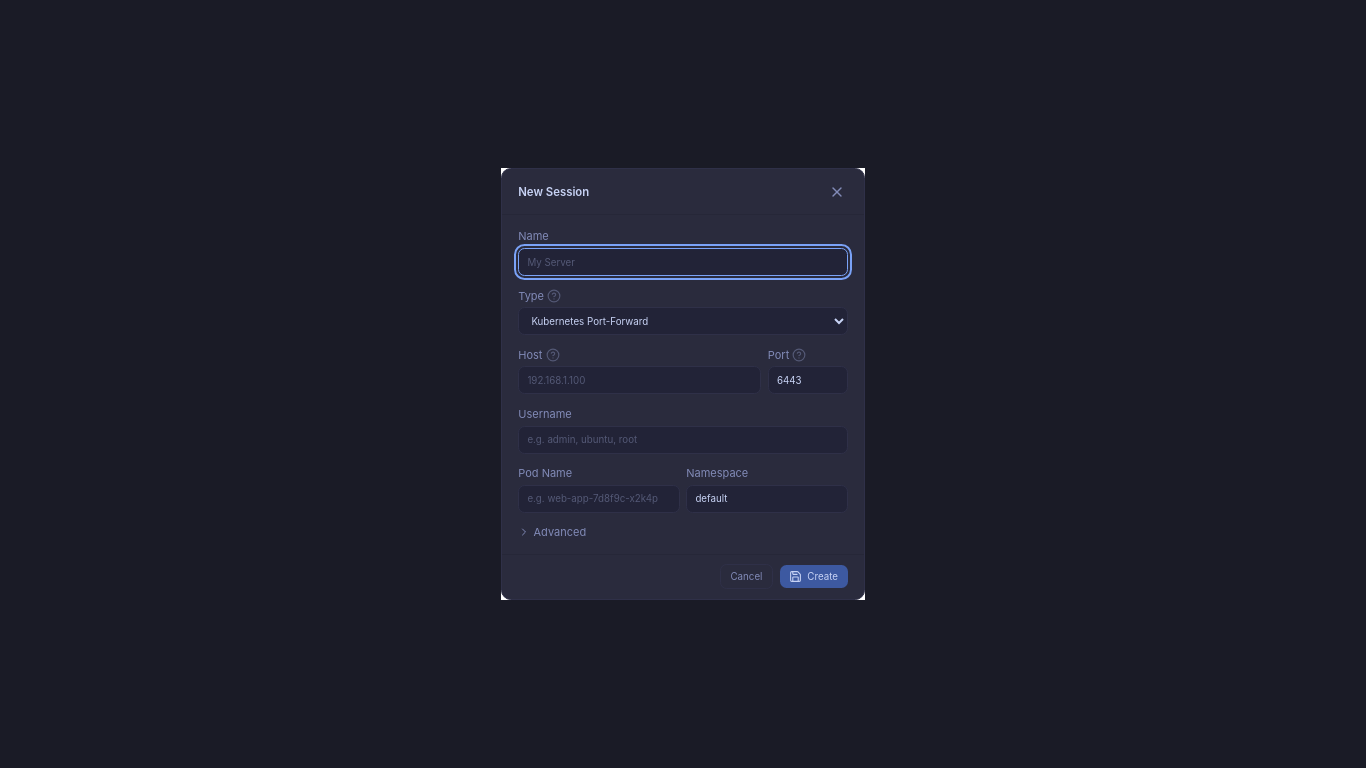
Test: SessionEditor › protocol-specific required fields block Save when empty › Kubernetes Port-Forward requires a Pod Name
The image size is (1366, 768).
Type "Test" into the field with placeholder "My Server".
click(683, 262); type("Test")  # box [518,248,848,276]
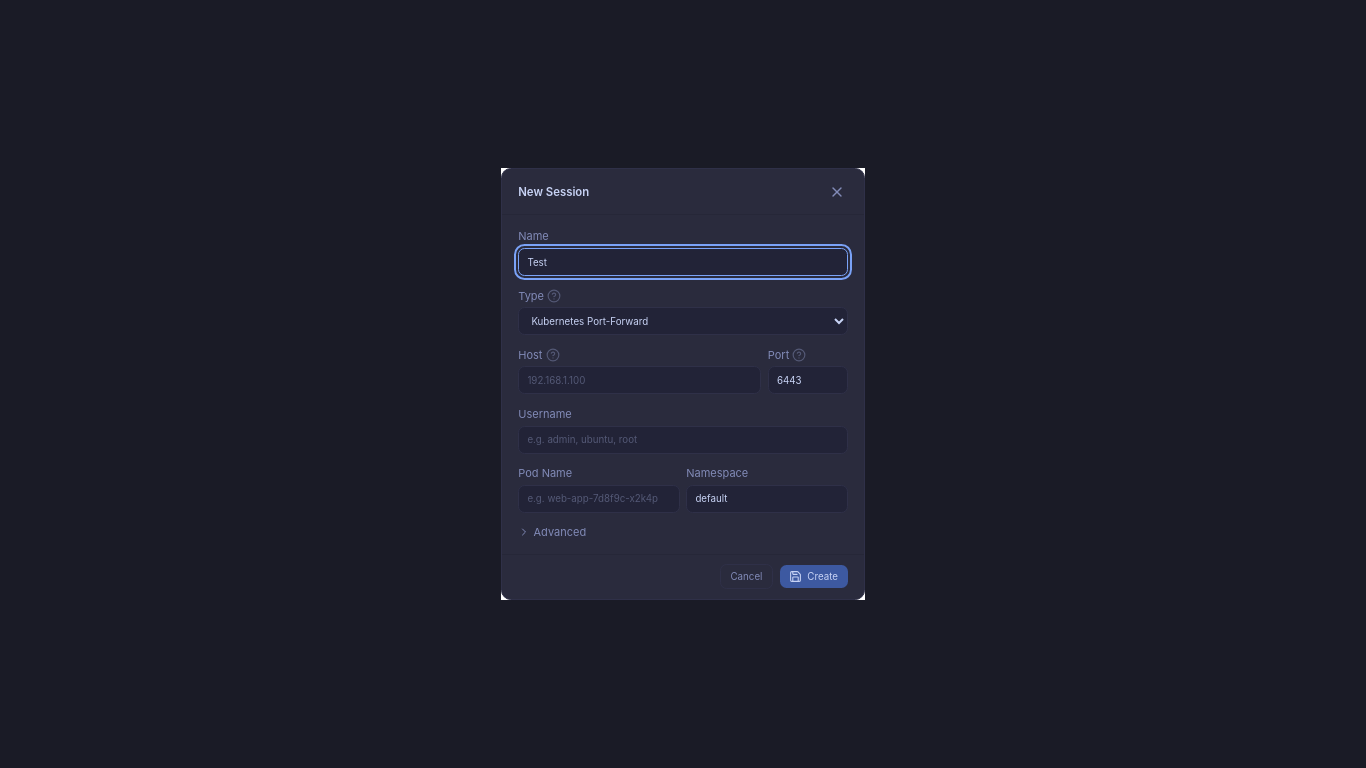
Click the button "Create".
click(814, 577)  # box [780,565,848,588]
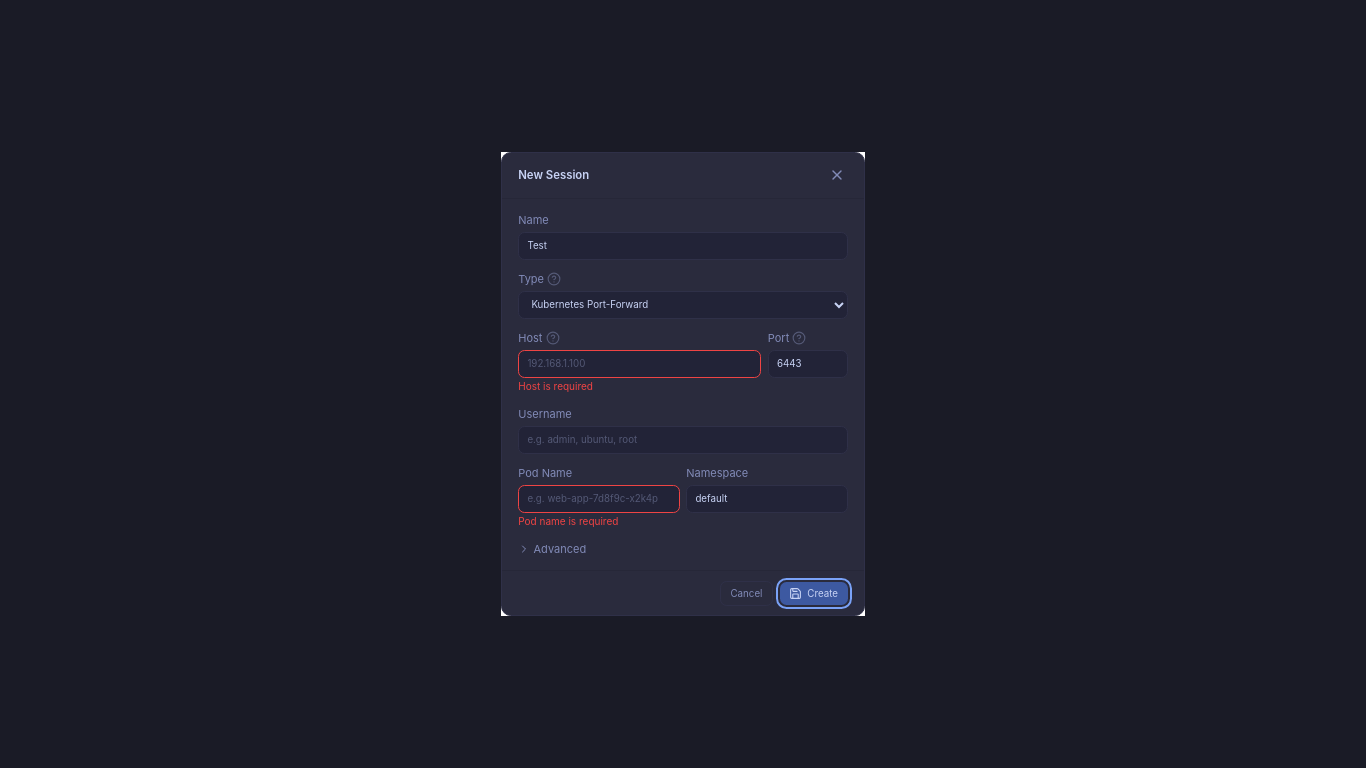
Result: the text "Pod name is required" is shown at [518,515,618,527]
